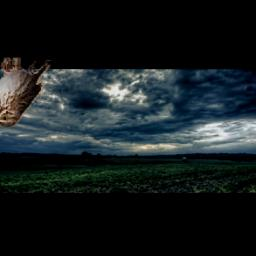Sparrow: (0, 57, 53, 127)
